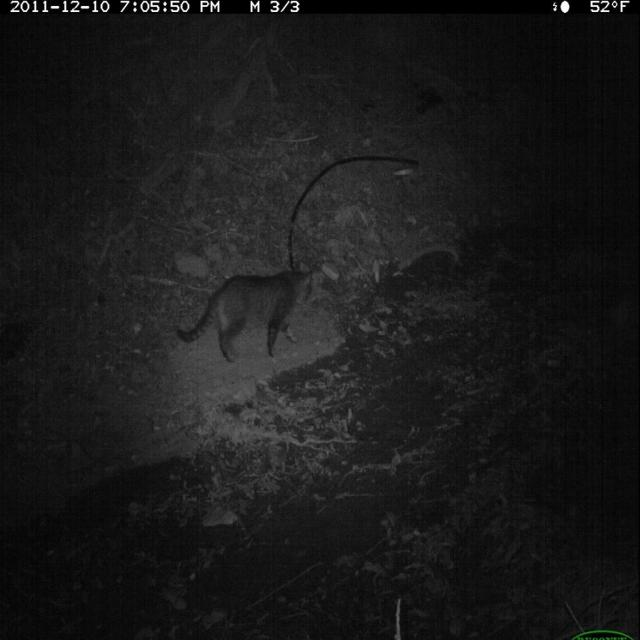cat: (171, 265, 319, 368)
